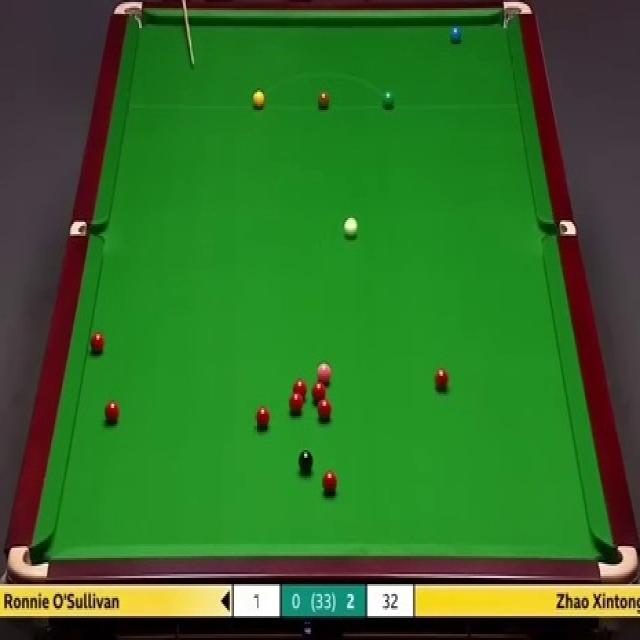pocket: (592, 542, 639, 583), (2, 541, 51, 577), (501, 0, 534, 31), (109, 0, 145, 28), (535, 220, 577, 238), (70, 218, 105, 237)
